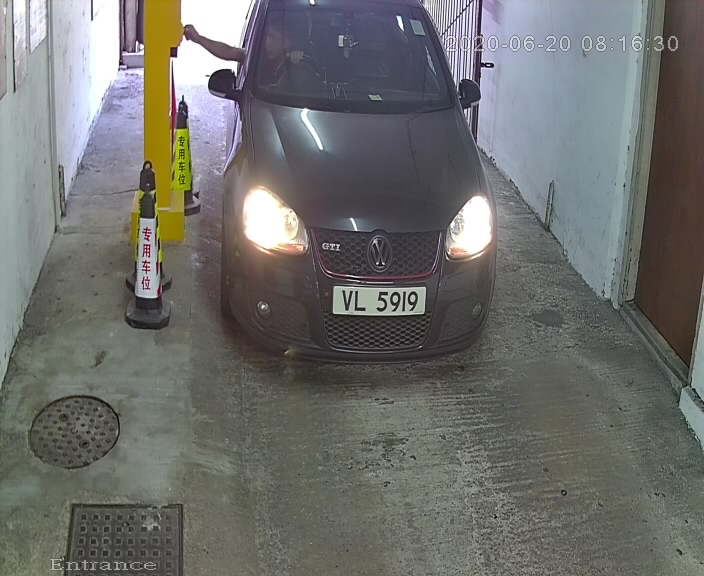privatecar: (204, 3, 508, 352)
